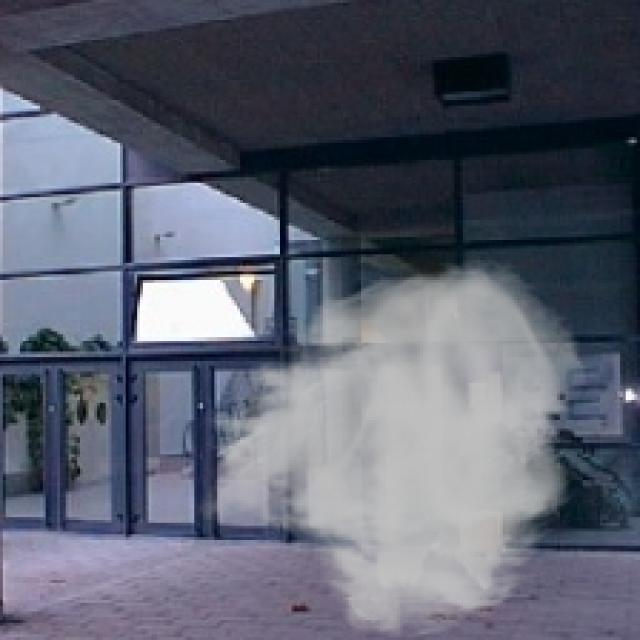smoke: (194, 257, 592, 637)
